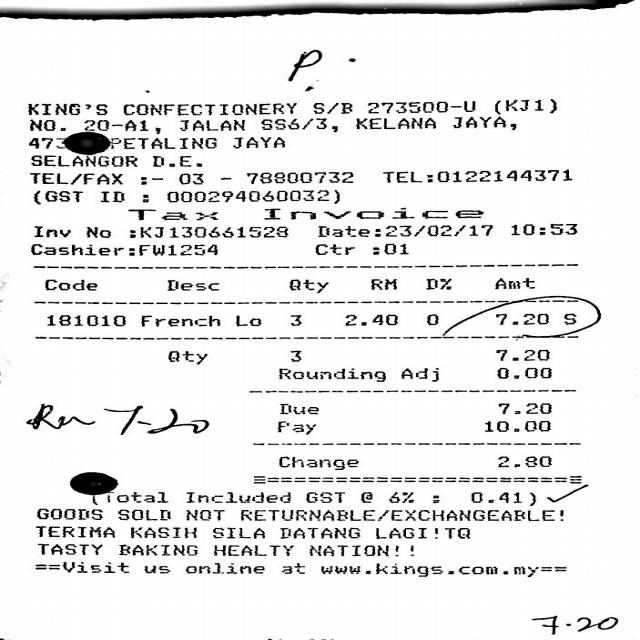text: (318, 562, 564, 576), (262, 207, 483, 218), (166, 189, 336, 203), (380, 169, 571, 181), (316, 224, 491, 236), (121, 102, 294, 114), (129, 225, 286, 237), (379, 510, 561, 520), (242, 509, 374, 520), (276, 368, 385, 381), (28, 154, 135, 166), (244, 171, 351, 183), (367, 100, 473, 112), (109, 137, 217, 148), (307, 545, 411, 556), (277, 456, 357, 470), (27, 172, 120, 184), (184, 492, 288, 502), (373, 527, 467, 538), (34, 561, 128, 572), (126, 209, 216, 220), (28, 243, 118, 254), (260, 118, 335, 131), (127, 244, 215, 255), (84, 120, 158, 133), (139, 314, 218, 326), (494, 98, 554, 113), (469, 491, 533, 505), (211, 544, 292, 555), (354, 117, 434, 128), (26, 103, 105, 114), (34, 525, 113, 536), (279, 527, 358, 538), (116, 543, 195, 554), (452, 115, 514, 129), (35, 507, 100, 519), (129, 526, 194, 538), (184, 563, 262, 573), (46, 315, 123, 325), (105, 490, 168, 502), (482, 420, 550, 431), (510, 223, 575, 234), (178, 119, 242, 130), (36, 543, 100, 554), (31, 190, 81, 204), (494, 312, 550, 324), (497, 402, 551, 414), (400, 366, 440, 382), (231, 136, 283, 148), (494, 349, 550, 360), (496, 367, 552, 378), (150, 154, 200, 166), (117, 509, 171, 520), (43, 279, 96, 290), (166, 279, 219, 290), (344, 314, 396, 325), (210, 527, 262, 538), (496, 456, 552, 466), (168, 350, 205, 364), (290, 279, 328, 292), (494, 276, 534, 288), (276, 421, 315, 433), (278, 403, 316, 414), (312, 102, 349, 113), (27, 119, 63, 130), (32, 225, 68, 236), (186, 509, 222, 520), (303, 492, 342, 502), (372, 243, 407, 254), (315, 244, 353, 254), (233, 314, 259, 326), (424, 278, 451, 289), (369, 278, 396, 289), (98, 190, 122, 202), (179, 172, 202, 184), (84, 226, 109, 237), (387, 492, 411, 502), (27, 138, 50, 148), (280, 563, 303, 573), (409, 536, 416, 560), (143, 566, 168, 572), (290, 350, 302, 362), (563, 313, 576, 324), (424, 313, 436, 324), (358, 492, 371, 502), (288, 315, 300, 325)
